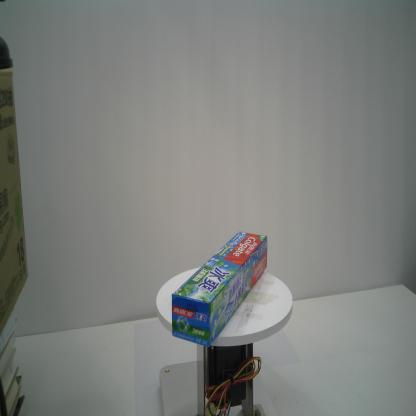Personal Hygiene: (170, 229, 270, 350)
